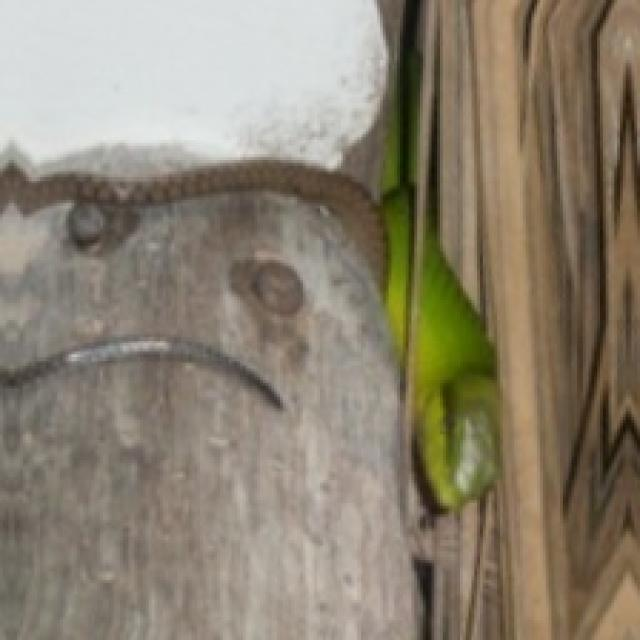red-tailed green ratsnake: (0, 0, 500, 512)
